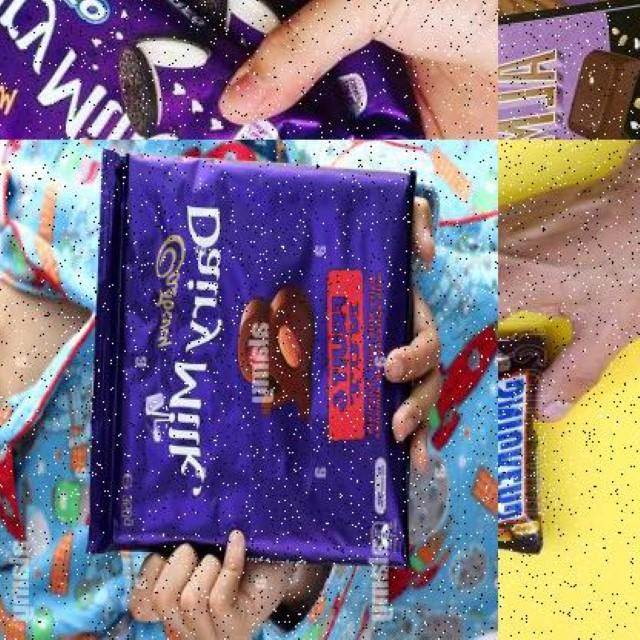cadbury_chocolate: (120, 153, 420, 570)
snickers_chocolate: (498, 337, 542, 550)
